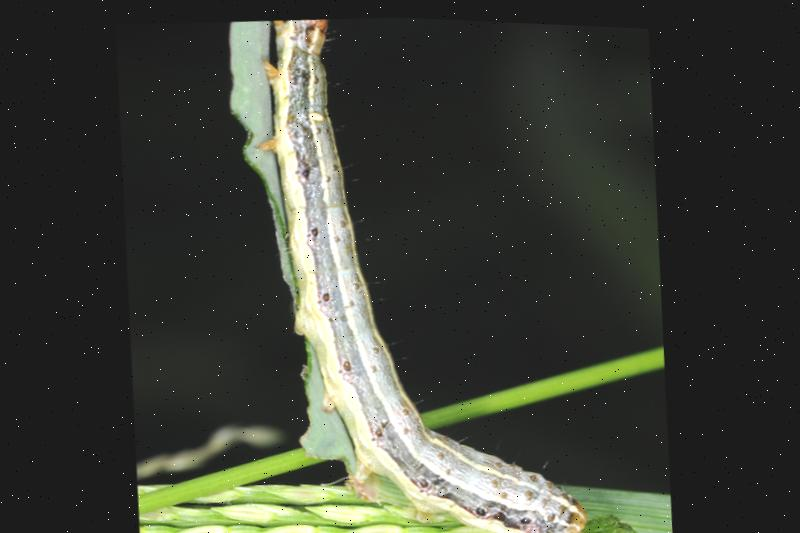fall-armyworm: (253, 17, 590, 533)
